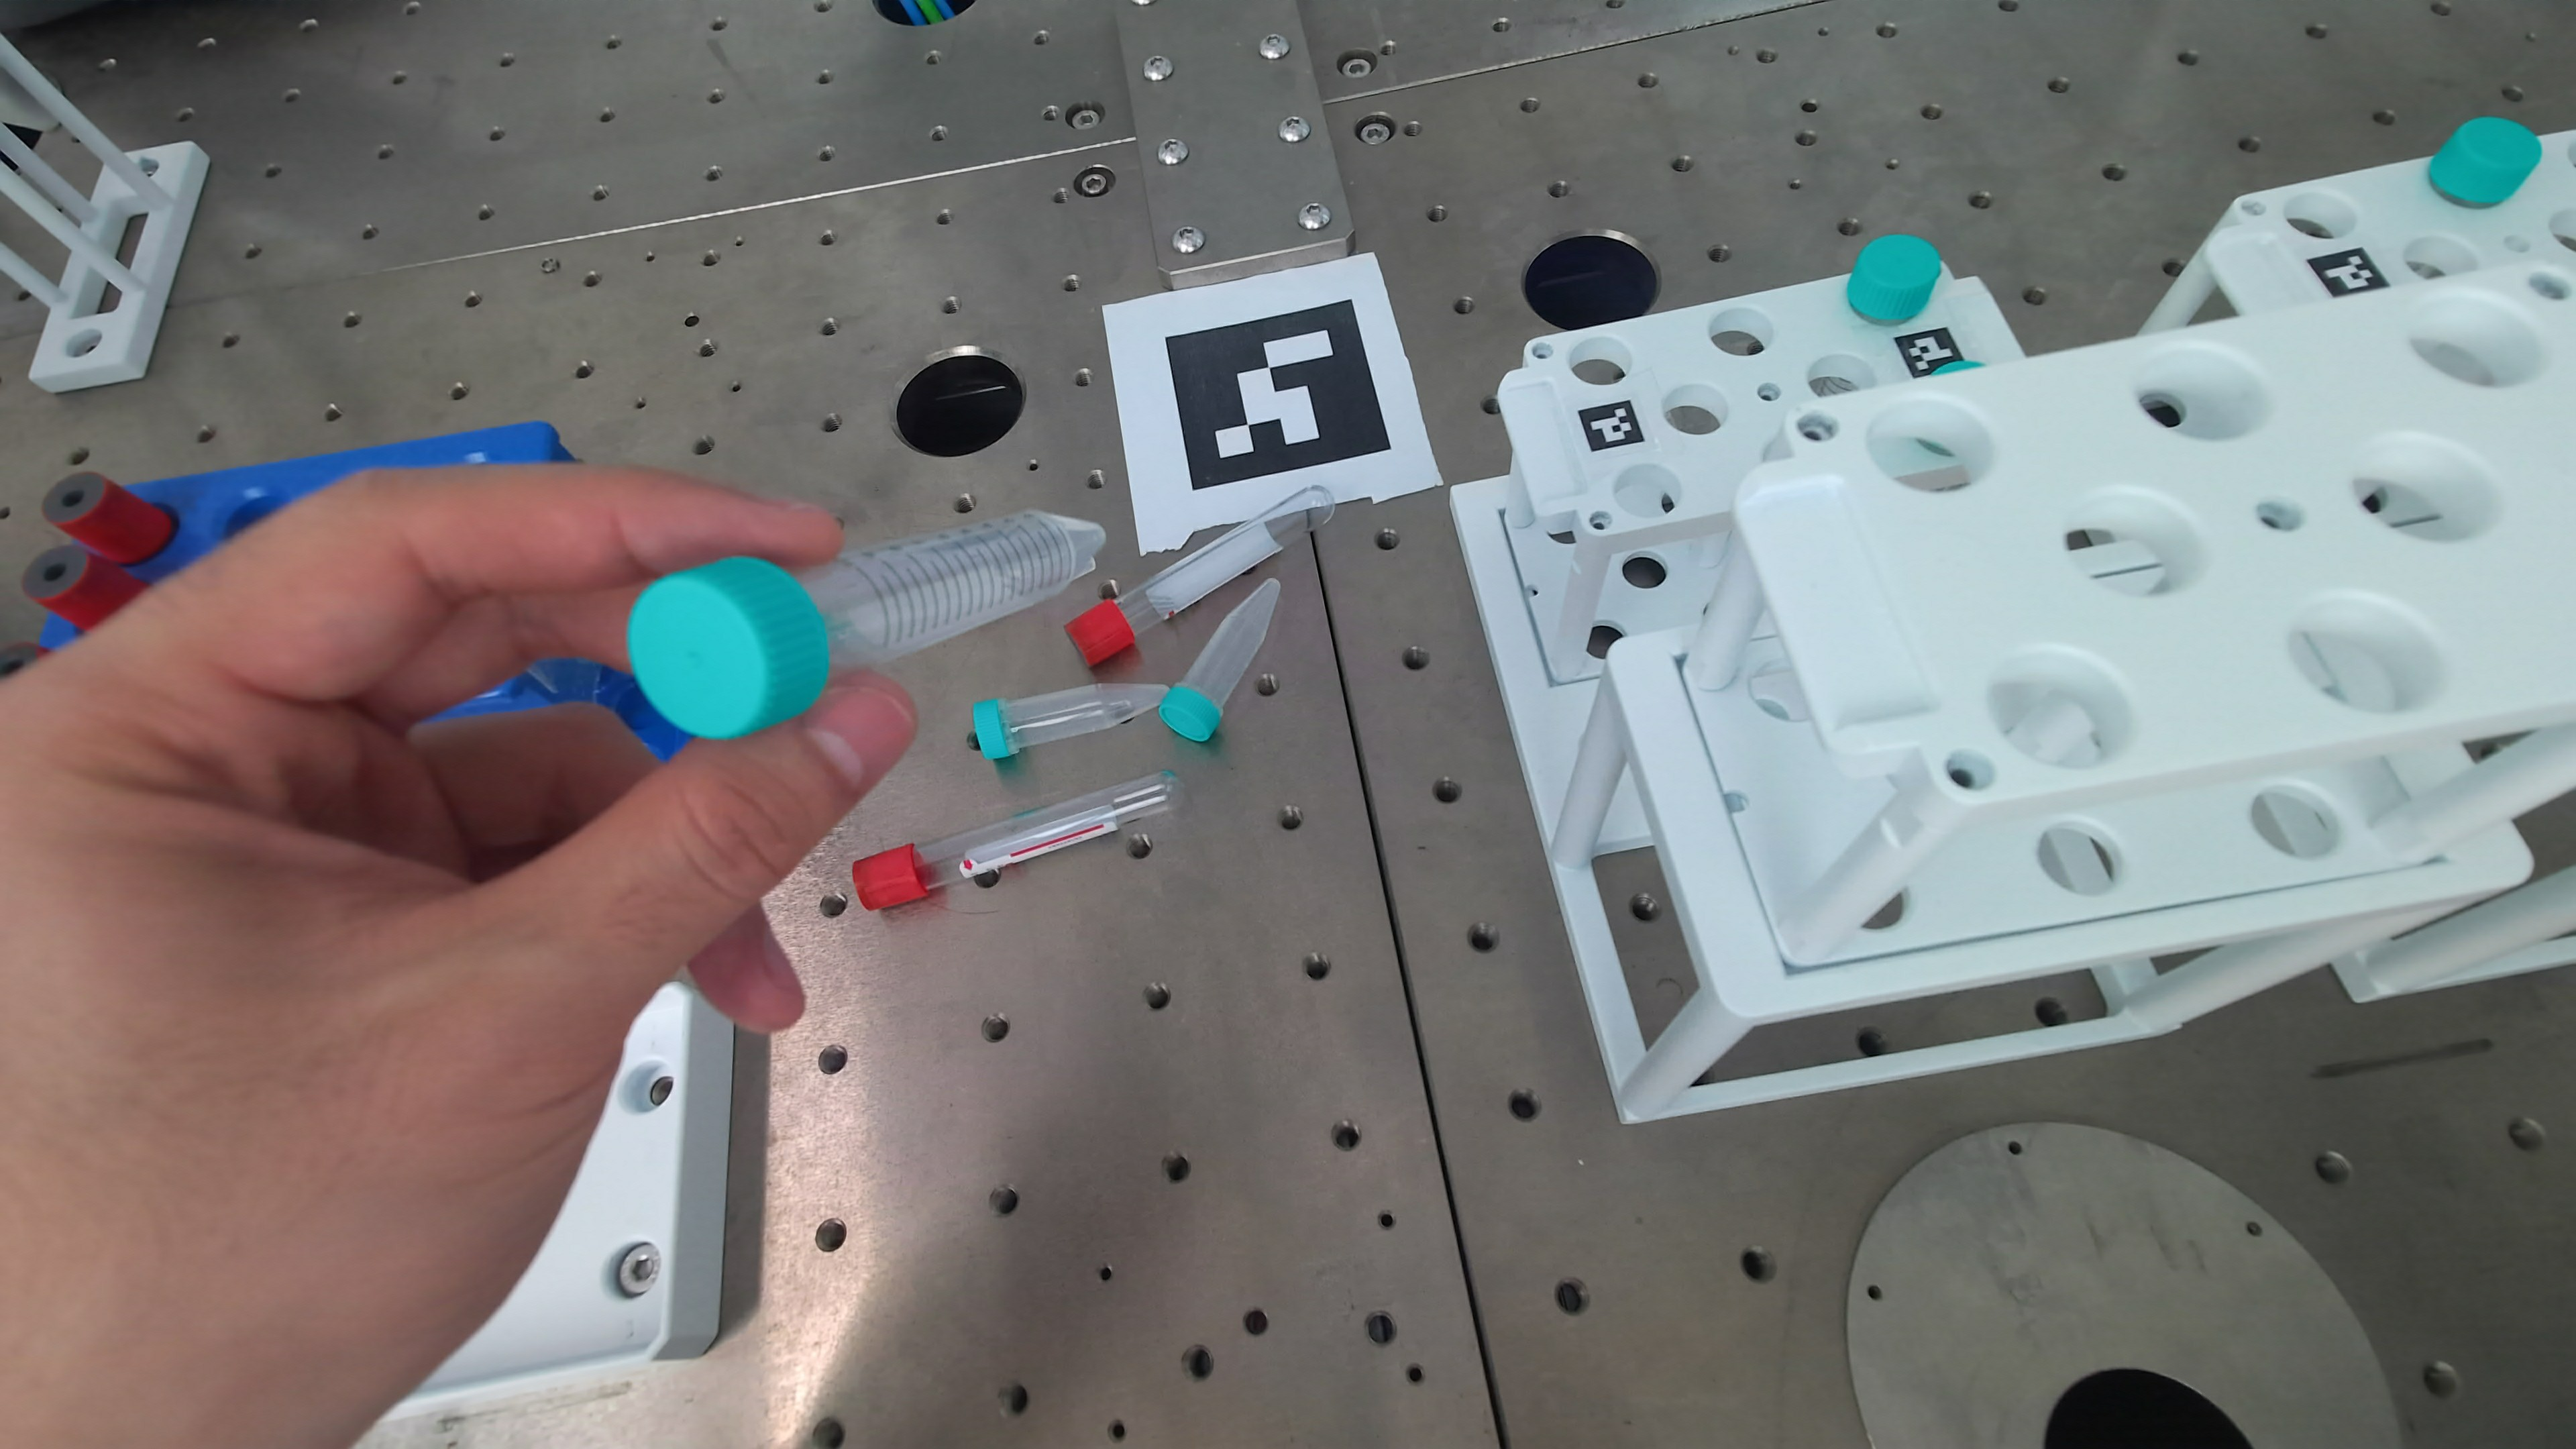10ML_centrifuge_tube: (628, 511, 1104, 738), (2429, 117, 2541, 207), (1847, 234, 1943, 322), (1936, 357, 1983, 375)
10ML_sorting_tube_rack: (39, 421, 690, 759)
5ML_centrifuge_tube: (1159, 580, 1279, 741), (971, 685, 1168, 761)
blood_tube: (1067, 487, 1334, 665), (853, 771, 1184, 909), (42, 472, 175, 566), (23, 545, 147, 632), (0, 640, 46, 679)
dispensing_tube_rack: (1451, 122, 2576, 1164)
sorting_tube_rack_base: (395, 980, 734, 1415)
